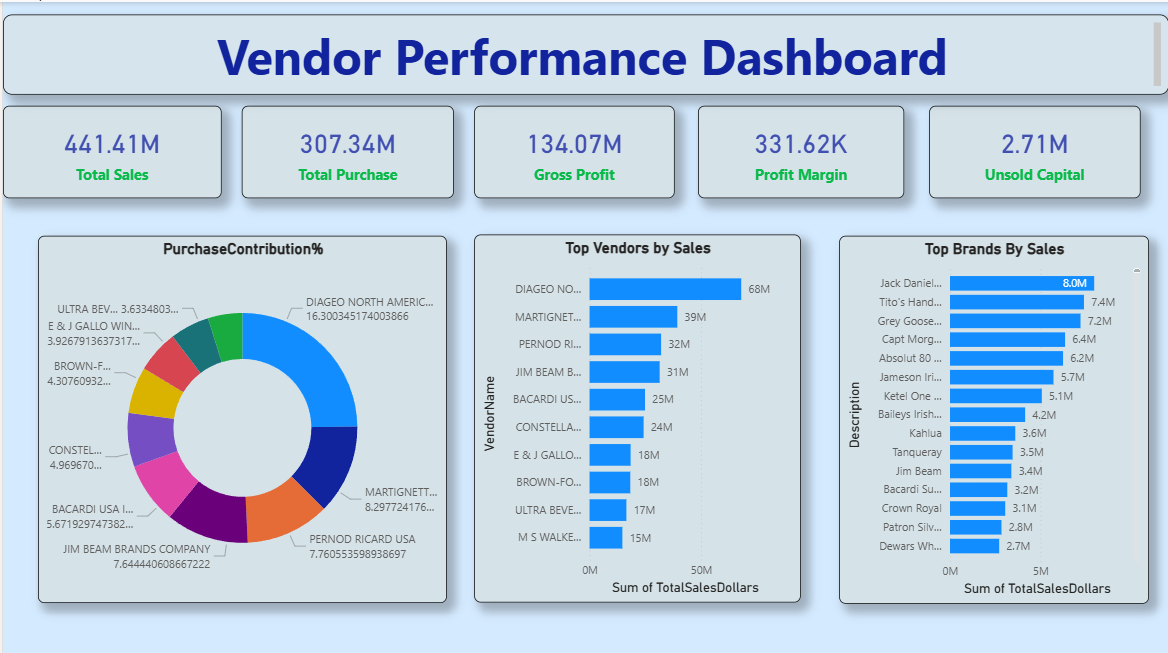

Layout of this report page (visuals, bound fields, positions):
{"tool":"powerbi","page":{"name":"Page 1","canvas":[1280,720],"ordinal":0},"visuals":[{"type":"card","fields":{"Values":["Sum(vendor_sales_summary.unsoldinventoryvalue)"]},"box":[1016.8,113.3,231.8,101.4],"z":0},{"type":"textbox","box":[0,13.2,1280.3,88.2],"z":1000},{"type":"card","fields":{"Values":["Sum(vendor_sales_summary.ProfitMargin)"]},"box":[762.6,113.3,226.5,101.4],"z":2000},{"type":"card","fields":{"Values":["Sum(vendor_sales_summary.GrossProfit)"]},"box":[517.6,113.3,220,101.4],"z":3000},{"type":"card","fields":{"Values":["Sum(vendor_sales_summary.TotalPurchaseDollars)"]},"box":[262.1,113.3,233.1,101.4],"z":4000},{"type":"card","title":"Total Sales","fields":{"Values":["Sum(vendor_sales_summary.TotalSalesDollars)"]},"box":[0,113.3,239.7,101.4],"z":5000},{"type":"donutChart","title":"PurchaseContribution% ","fields":{"Category":["PurchaseContribution.VendorName"],"Y":["Sum(PurchaseContribution.PurchaseContribution%)"]},"box":[38.2,256.8,449.1,403],"z":6000},{"type":"barChart","title":"Top Vendors by Sales","fields":{"Y":["Sum(vendor_sales_summary.TotalSalesDollars)"],"Category":["vendor_sales_summary.VendorName"]},"box":[517.6,255.5,358.3,404.4],"z":7000},{"type":"barChart","title":"Top Brands By Sales","fields":{"Y":["Sum(vendor_sales_summary.TotalSalesDollars)"],"Category":["vendor_sales_summary.Description"]},"box":[918.1,256.8,339.8,404.4],"z":8000}]}

Visuals, with their boxes in screenshot pixels (x1, y1, x2, y2), scaled from the page's 1280x720 canvas onto the 1168x653 screenshot:
card - Sum(vendor_sales_summary.unsoldinventoryvalue): (x1=928, y1=103, x2=1139, y2=195)
textbox: (x1=0, y1=12, x2=1167, y2=92)
card - Sum(vendor_sales_summary.ProfitMargin): (x1=696, y1=103, x2=903, y2=195)
card - Sum(vendor_sales_summary.GrossProfit): (x1=472, y1=103, x2=673, y2=195)
card - Sum(vendor_sales_summary.TotalPurchaseDollars): (x1=239, y1=103, x2=452, y2=195)
"Total Sales" card: (x1=0, y1=103, x2=219, y2=195)
"PurchaseContribution% " donutChart: (x1=35, y1=233, x2=445, y2=598)
"Top Vendors by Sales" barChart: (x1=472, y1=232, x2=799, y2=598)
"Top Brands By Sales" barChart: (x1=838, y1=233, x2=1148, y2=600)
